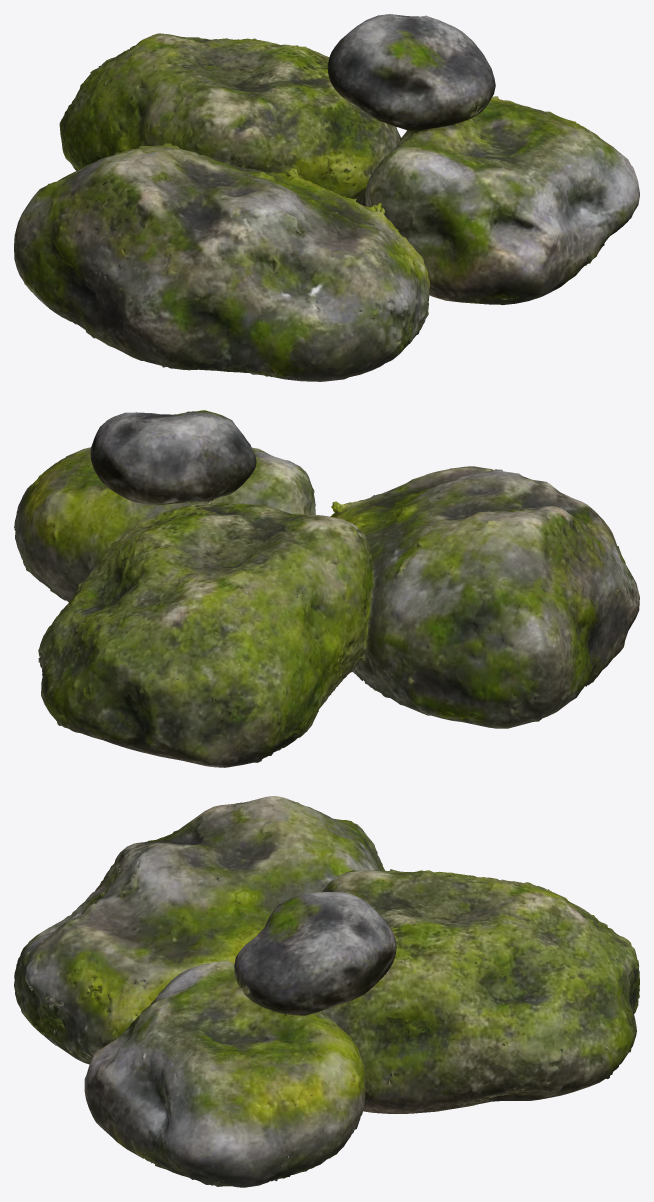
Rendered from boulder_b.0.glb.
3 renders of one model, top to bottom at view 1: azimuth 30°, elevation 25°; view 2: azimuth 150°, elevation 25°; view 3: azimuth 270°, elevation 25°, orthographic. The views are drawn at different scales.
Parts seen in each view (by area): view 1: geometry_0; view 2: geometry_0; view 3: geometry_0.
Part boxes in pixels (box(x1,y1,x2,y2)): geometry_0: box(14, 14, 639, 381); geometry_0: box(14, 410, 639, 767); geometry_0: box(14, 796, 639, 1187).
Bounding box in the file's own units: 0.9981 × 0.3703 × 0.9412.
1 material, 1 textured.
